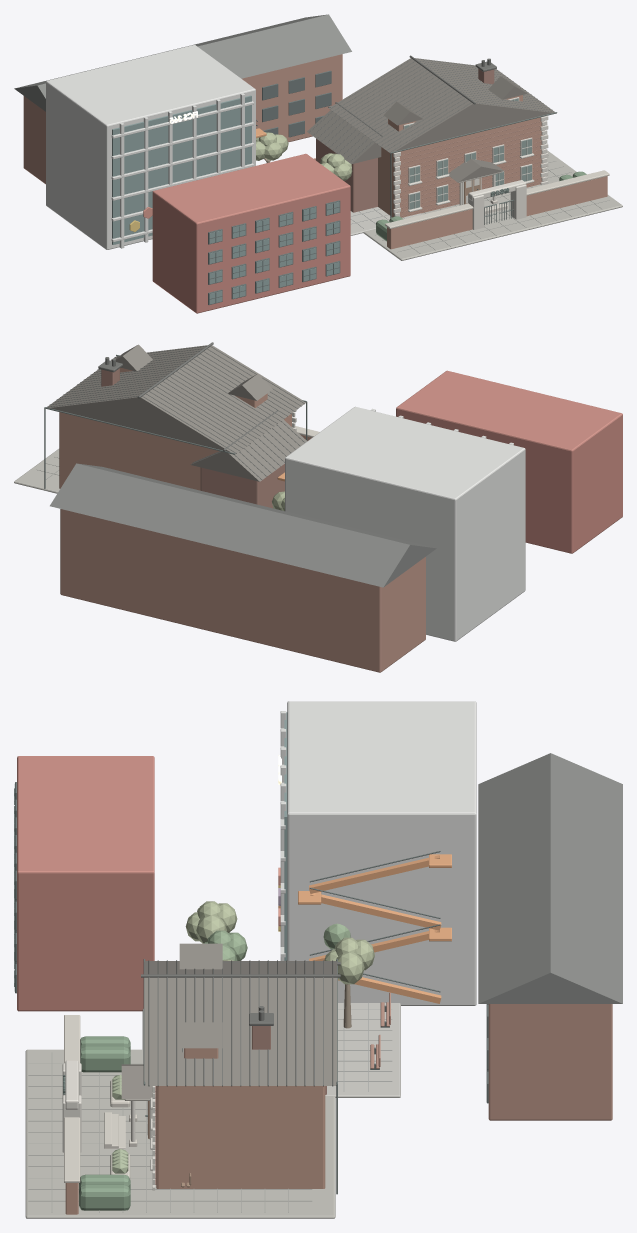
Rendered from fics-xinhua-365.glb.
3 renders of one model, top to bottom at view 1: azimuth 30°, elevation 25°; view 2: azimuth 150°, elevation 25°; view 3: azimuth 270°, elevation 25°, orthographic. The views are drawn at different scales.
Visible parts, largest first — view 1: fics-xinhua-365; view 2: fics-xinhua-365; view 3: fics-xinhua-365.
Boxes of the visible parts, bbox=[...] form: fics-xinhua-365: bbox=[14, 14, 622, 313]; fics-xinhua-365: bbox=[14, 342, 622, 672]; fics-xinhua-365: bbox=[14, 701, 622, 1218].
Size of the model in its own units: 44.75 by 12.4 by 35.38.
